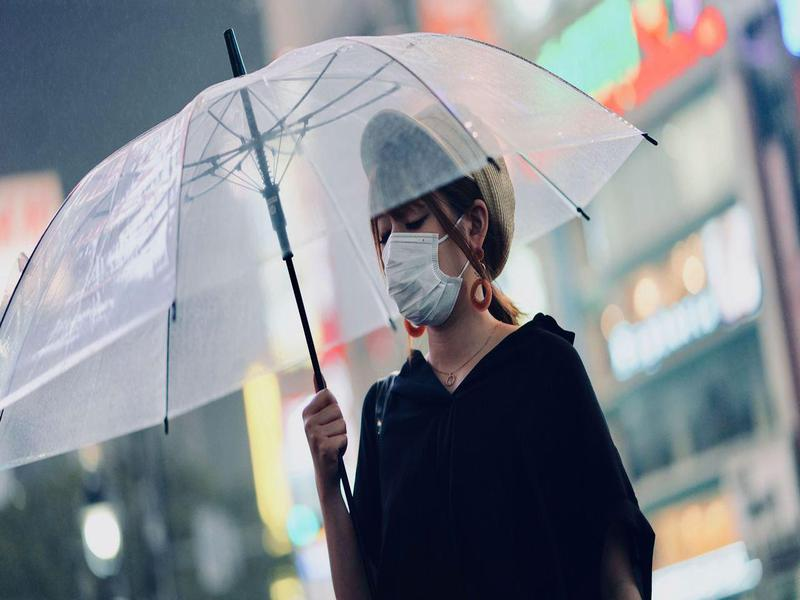with_mask: (373, 131, 503, 333)
